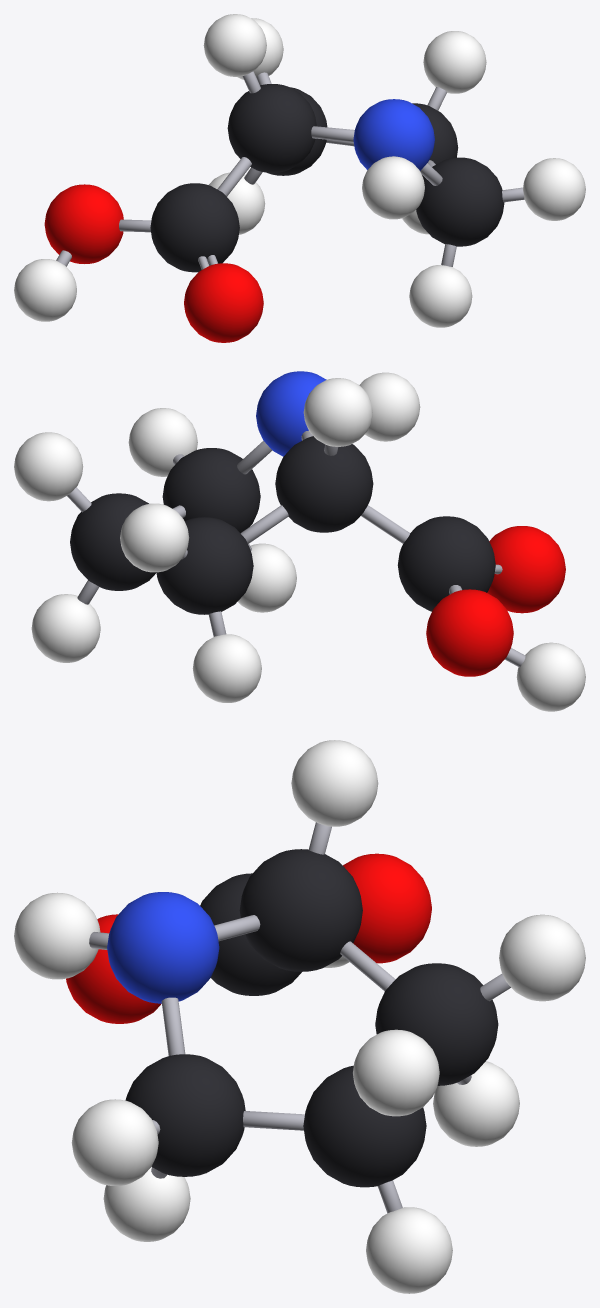
Rendered from proline.glb.
The picture shows the model from 3 angles, top to bottom: view 1: azimuth 30°, elevation 25°; view 2: azimuth 150°, elevation 25°; view 3: azimuth 270°, elevation 25°; orthographic projection. The views are drawn at different scales.
Visible parts, largest first — view 1: C3, C1, C6, O2, O0, N7, H16, H9, H8, H15, H14, H13 (+6 smaller); view 2: C3, C1, C4, O0, C6, O2, C5, H10, H13, H9, H11, H8 (+8 smaller); view 3: C3, C6, N7, C4, C5, O0, H10, H14, H9, H13, H12, H16 (+8 smaller).
Part boxes in pixels (left/top/right/bottom): C3: left=227, top=84, right=316, bottom=172; C1: left=150, top=183, right=239, bottom=272; C6: left=416, top=157, right=504, bottom=246; O2: left=184, top=263, right=263, bottom=342; O0: left=44, top=184, right=123, bottom=263; N7: left=353, top=99, right=434, bottom=170; H16: left=362, top=156, right=424, bottom=219; H9: left=203, top=14, right=266, bottom=76; H8: left=14, top=259, right=76, bottom=321; H15: left=409, top=265, right=472, bottom=327; H14: left=523, top=158, right=585, bottom=220; H13: left=423, top=31, right=486, bottom=93; C3: left=275, top=436, right=373, bottom=532; C1: left=397, top=516, right=495, bottom=611; C4: left=156, top=517, right=253, bottom=614; O0: left=426, top=589, right=513, bottom=676; C6: left=162, top=448, right=260, bottom=532; O2: left=487, top=526, right=565, bottom=613; C5: left=70, top=493, right=156, bottom=590; H10: left=120, top=503, right=189, bottom=572; H13: left=14, top=432, right=83, bottom=501; H9: left=303, top=378, right=372, bottom=446; H11: left=192, top=634, right=261, bottom=702; H8: left=516, top=642, right=585, bottom=711; C3: left=239, top=849, right=362, bottom=971; C6: left=125, top=1054, right=245, bottom=1176; N7: left=107, top=892, right=219, bottom=1003; C4: left=375, top=963, right=498, bottom=1085; C5: left=303, top=1065, right=426, bottom=1187; O0: left=343, top=853, right=431, bottom=963; H10: left=499, top=914, right=585, bottom=1001; H14: left=71, top=1099, right=158, bottom=1185; H9: left=291, top=740, right=378, bottom=826; H13: left=353, top=1029, right=439, bottom=1116; H12: left=366, top=1207, right=452, bottom=1293; H16: left=14, top=892, right=100, bottom=979.
Bounding box in the file's own units: 6.43 × 3.67 × 4.73.
